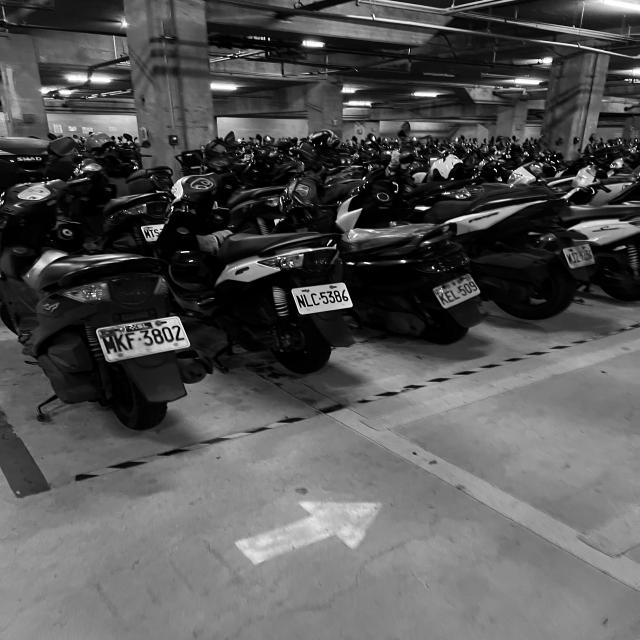-: (138, 337, 142, 341), (318, 297, 322, 300), (457, 291, 461, 294)
0: (160, 326, 175, 343), (463, 283, 473, 294)
2: (171, 325, 185, 341)
3: (140, 330, 155, 347), (326, 291, 336, 304)
5: (319, 292, 330, 305), (457, 285, 468, 297)
6: (342, 289, 350, 302)
8: (151, 328, 165, 344), (333, 289, 343, 303)
9: (468, 281, 478, 292)
C: (310, 293, 320, 306)
E: (444, 290, 455, 303)
F: (124, 332, 137, 350)
K: (113, 334, 130, 352), (438, 293, 450, 305)
L: (302, 294, 314, 307), (449, 289, 462, 300)
M: (101, 335, 119, 355), (566, 253, 574, 264), (143, 230, 152, 238)
N: (296, 294, 307, 308)
T: (149, 229, 155, 238)
plate: (97, 317, 190, 361), (292, 284, 352, 314), (433, 274, 480, 309), (564, 244, 595, 269)
